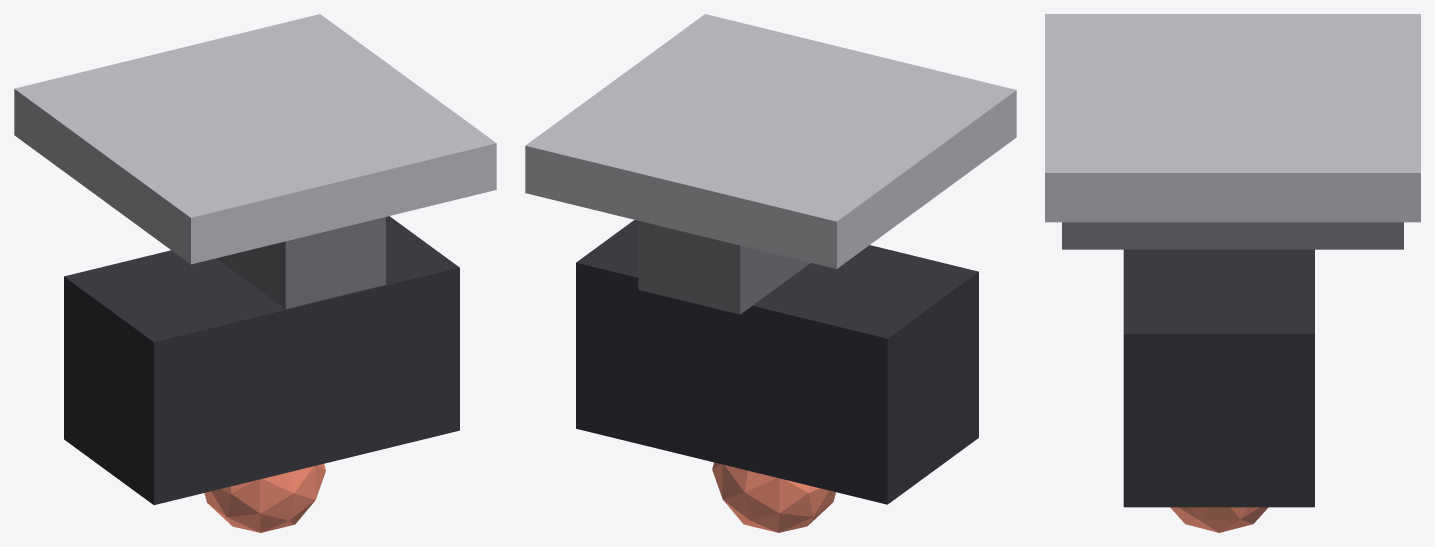
The model's file is industrial_security_camera.glb.
3 views of the same model, side by side, from view 1: azimuth 30°, elevation 25°; view 2: azimuth 150°, elevation 25°; view 3: azimuth 270°, elevation 25° (orthographic). The views are drawn at different scales.
Visible parts, largest first — view 1: camera_body, wall_plate, mount, lens; view 2: camera_body, wall_plate, mount, lens; view 3: wall_plate, camera_body, mount, lens.
Boxes of the visible parts, left/top/right/bottom form: camera_body: left=64, top=216, right=459, bottom=504; wall_plate: left=14, top=14, right=496, bottom=264; mount: left=216, top=217, right=385, bottom=308; lens: left=204, top=464, right=325, bottom=532; camera_body: left=576, top=220, right=978, bottom=504; wall_plate: left=525, top=14, right=1016, bottom=268; mount: left=638, top=220, right=810, bottom=314; lens: left=712, top=462, right=835, bottom=532; wall_plate: left=1045, top=14, right=1420, bottom=222; camera_body: left=1123, top=249, right=1314, bottom=507; mount: left=1062, top=222, right=1403, bottom=249; lens: left=1170, top=507, right=1268, bottom=532.
Size of the model in its own units: 0.55 by 0.7 by 0.55.
